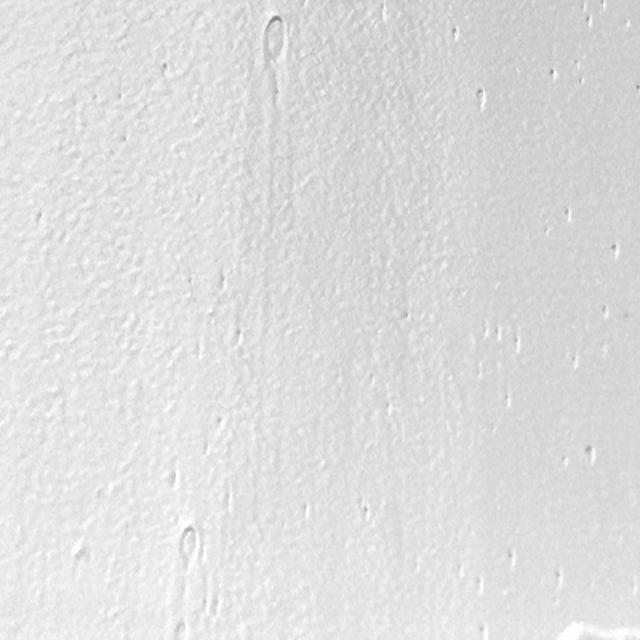pin holes: (260, 16, 291, 64), (176, 526, 203, 566), (581, 442, 601, 470), (472, 86, 490, 112), (358, 500, 376, 524), (470, 574, 488, 598), (502, 546, 520, 570), (172, 619, 192, 640), (551, 568, 568, 591), (561, 204, 578, 227), (165, 468, 181, 492), (299, 499, 314, 523), (498, 391, 514, 413), (230, 324, 246, 346), (608, 240, 624, 261), (581, 13, 597, 31), (569, 353, 583, 373), (214, 415, 230, 432), (217, 273, 231, 292), (449, 24, 462, 44), (546, 66, 560, 84), (598, 302, 612, 320), (493, 326, 507, 344), (160, 61, 173, 80), (479, 323, 492, 342), (512, 334, 524, 354), (476, 623, 490, 640), (558, 454, 572, 470), (400, 308, 414, 323), (382, 401, 395, 416), (573, 57, 585, 73), (577, 76, 587, 90), (622, 17, 632, 31), (597, 0, 608, 11), (632, 82, 638, 95)
